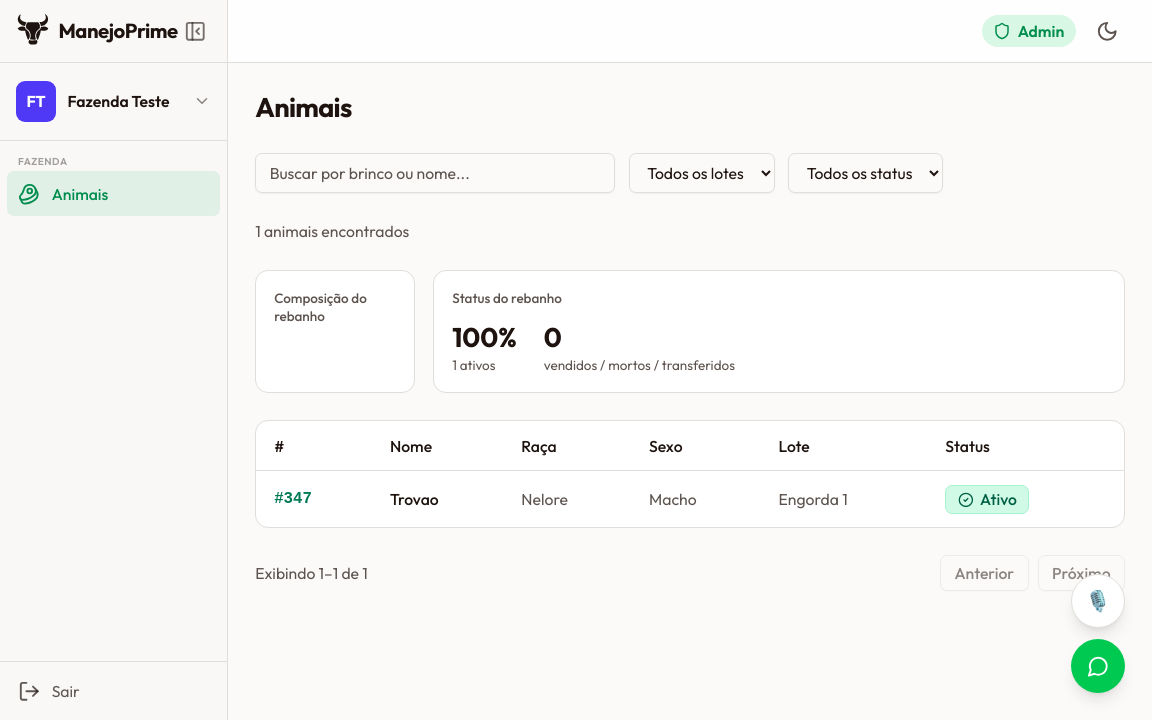
animals migration › row click navigates to animal detail route
expect the table is shown: met, box [256,421,1124,527]
Click the button with aria-label "view trovao" at (690, 499), box [256,471,1124,527]
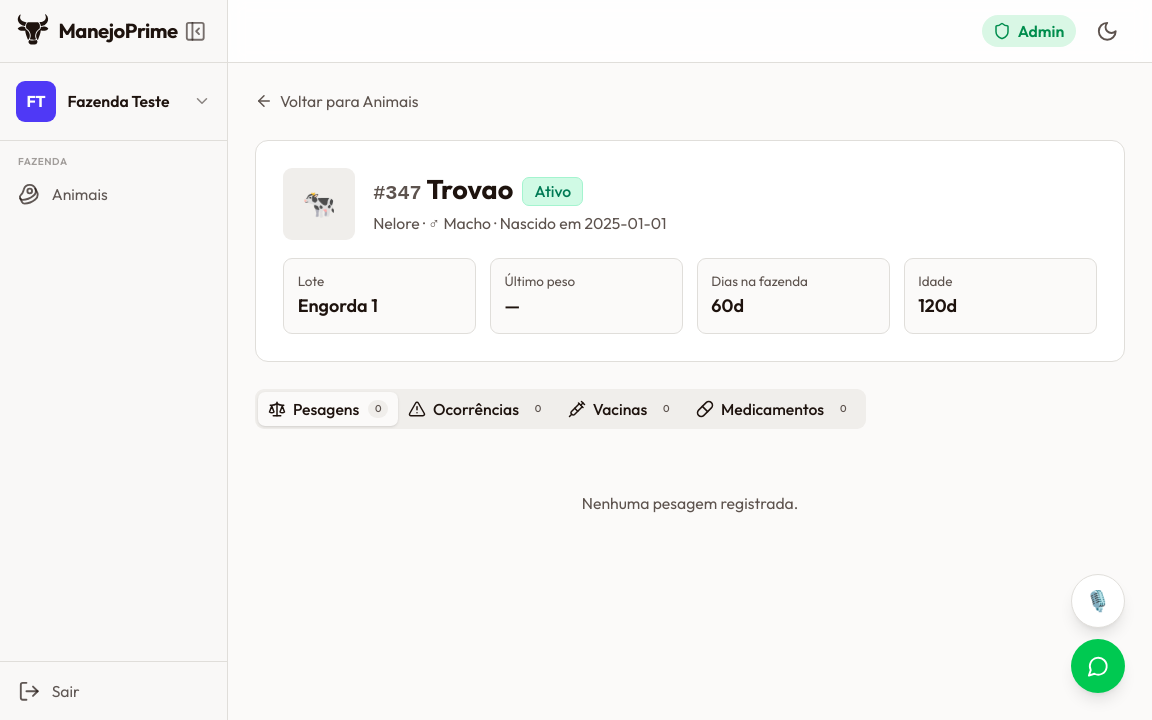
expect the link "Voltar para Animais" is shown: met, box [255,90,418,112]
expect the heading "#347 Trovao" is shown: met, box [373,172,513,210]
